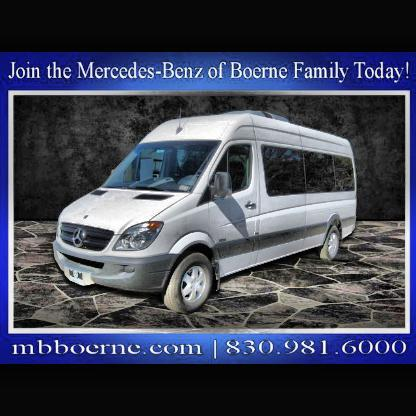Mercedes-Benz Sprinter Van 2012: (53, 112, 357, 315)
